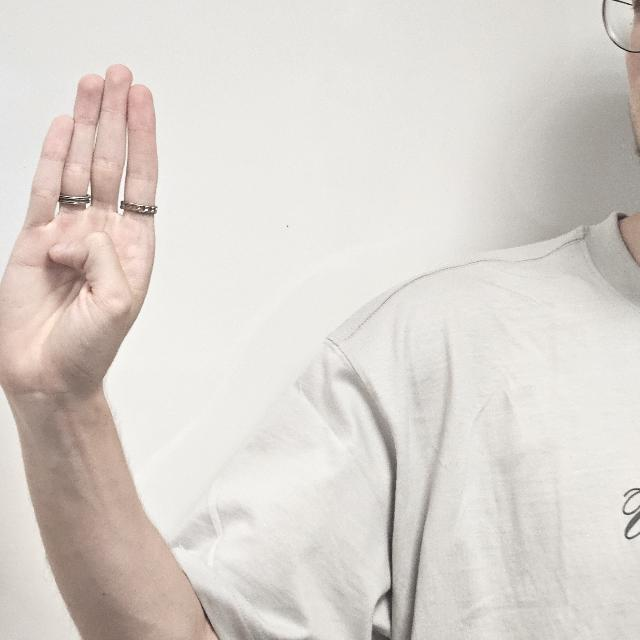Baixo: (1, 64, 162, 452)
